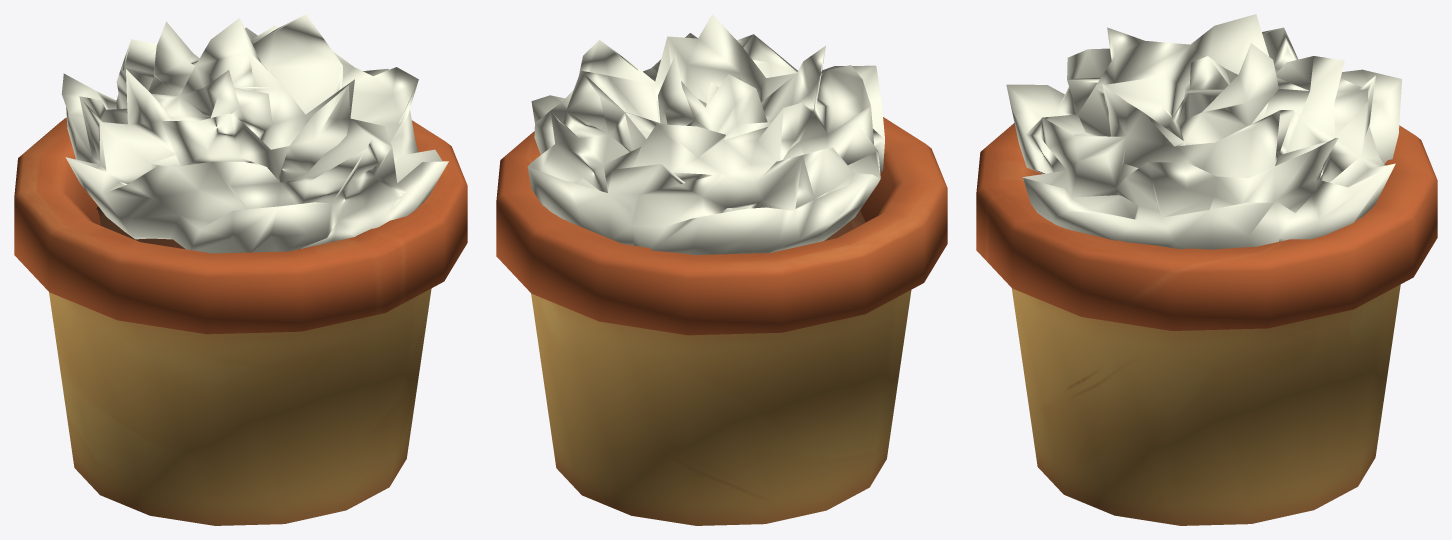
Rendered from Pot.001.fbx.
The picture shows the model from 3 angles, left to right: view 1: azimuth 30°, elevation 25°; view 2: azimuth 150°, elevation 25°; view 3: azimuth 270°, elevation 25°; orthographic projection. The views are drawn at different scales.
Visible parts, largest first — view 1: Pot.001; view 2: Pot.001; view 3: Pot.001.
Boxes of the visible parts, x1,y1,x2,y2 form: Pot.001: (14,14,467,525); Pot.001: (496,14,947,525); Pot.001: (976,14,1437,525).
Bounding box in the file's own units: 44.57 × 45.06 × 44.51.
